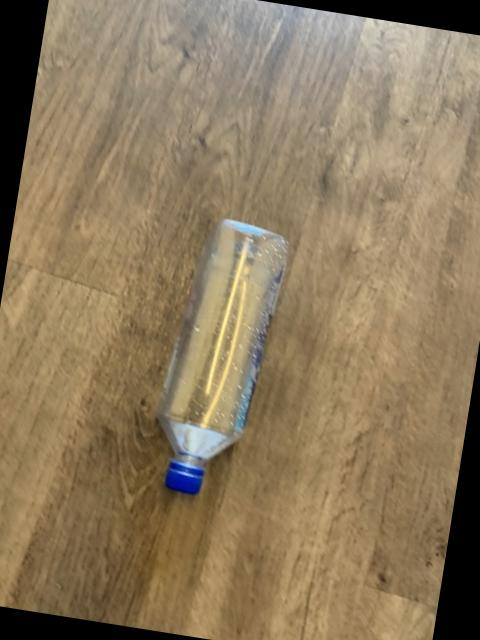plastic: (156, 216, 286, 491)
